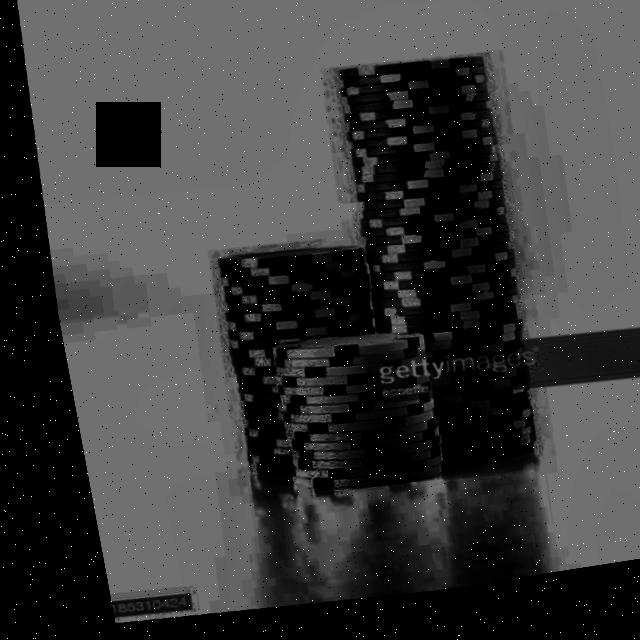Chip: (300, 51, 552, 495), (175, 232, 394, 496), (246, 320, 449, 521)
